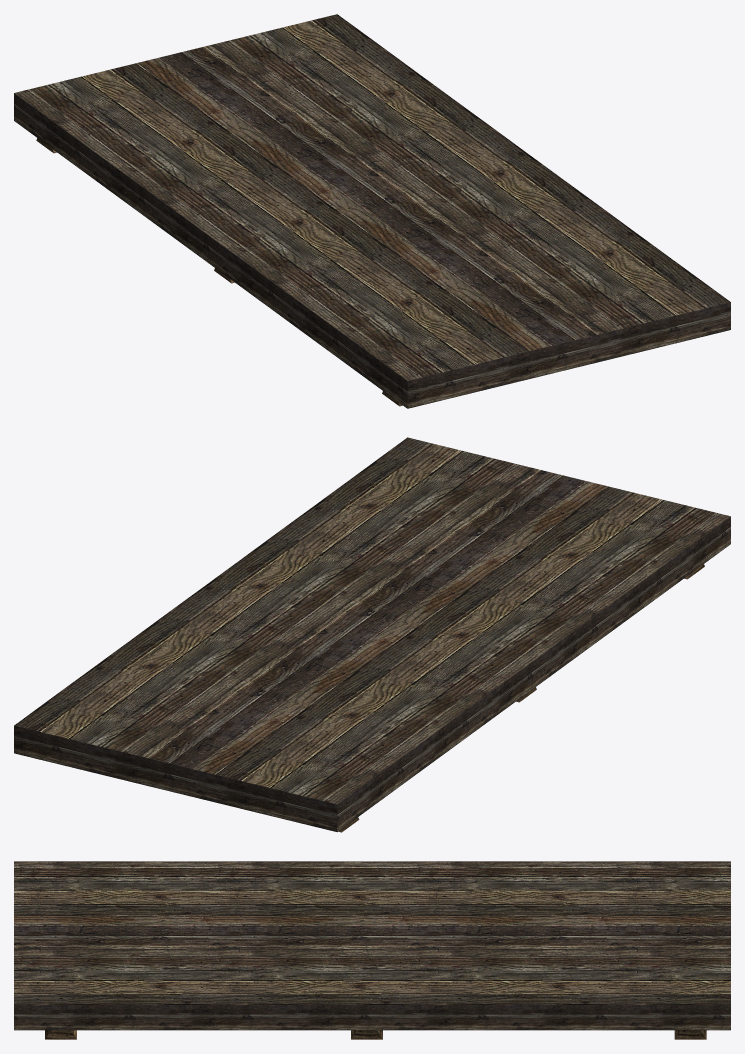
The model's file is loc2_00.glb.
3 renders of one model, top to bottom at view 1: azimuth 30°, elevation 25°; view 2: azimuth 150°, elevation 25°; view 3: azimuth 270°, elevation 25°, orthographic. The views are drawn at different scales.
Visible parts, largest first — view 1: loc2_00; view 2: loc2_00; view 3: loc2_00.
Part boxes in pixels (<box>): loc2_00: <box>14,14,730,408</box>; loc2_00: <box>14,437,730,832</box>; loc2_00: <box>14,861,730,1039</box>.
Bounding box in the file's own units: 8.66 × 1.03 × 18.26.
3 materials, 3 textured.
